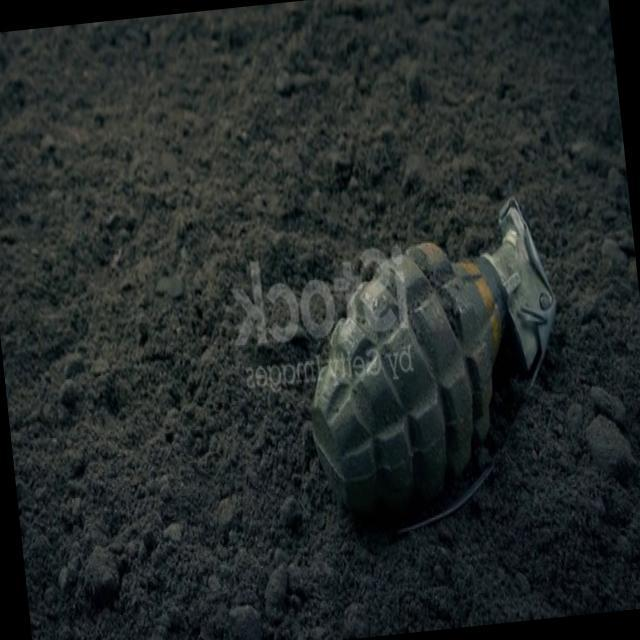grenade: (286, 192, 582, 550)
